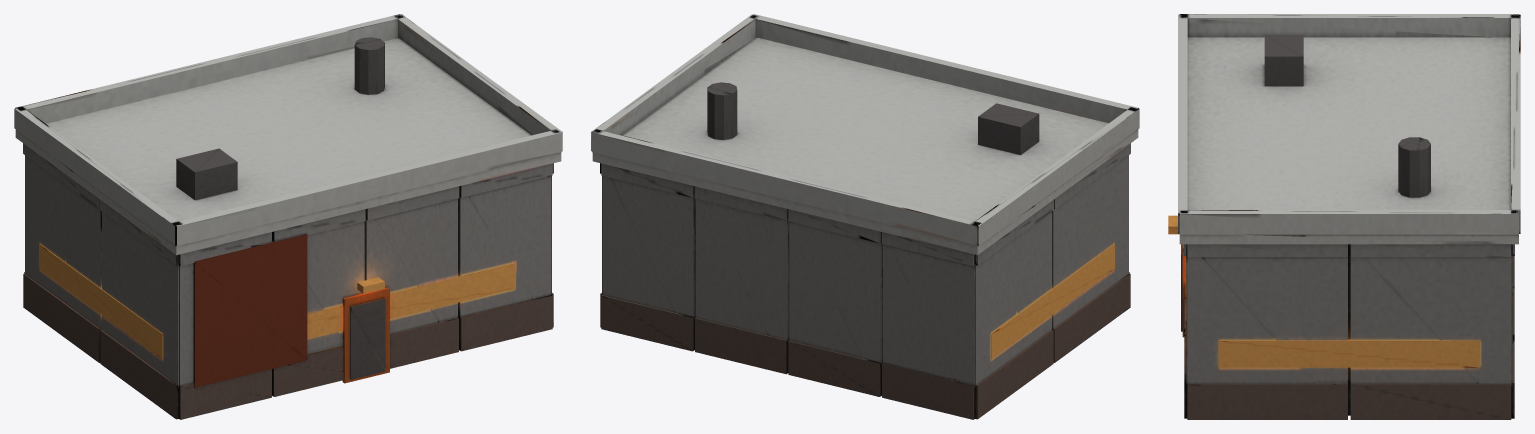
The model's file is B_directors_house.glb.
3 views of the same model, side by side, from view 1: azimuth 30°, elevation 25°; view 2: azimuth 150°, elevation 25°; view 3: azimuth 270°, elevation 25° (orthographic). The views are drawn at different scales.
Parts seen in each view (by area): view 1: Cube; view 2: Cube; view 3: Cube.
Boxes of the visible parts, x1,y1,x2,y2 form: Cube: (14,14,562,419); Cube: (591,14,1139,419); Cube: (1168,14,1520,419).
Bounding box in the file's own units: 14.5 × 8.1 × 10.8.
1 material, 1 textured.
